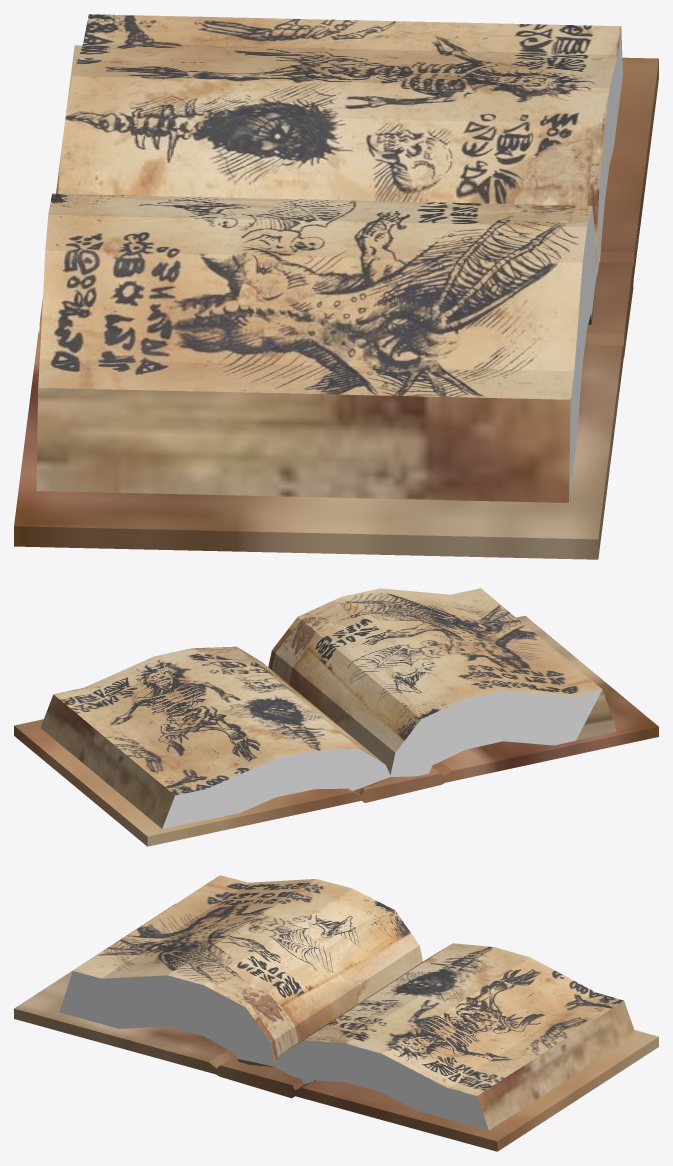
File: Openbook_uv.glb
3 views of the same model, one above another, from view 1: azimuth 30°, elevation 25°; view 2: azimuth 150°, elevation 25°; view 3: azimuth 270°, elevation 25° (orthographic). The views are drawn at different scales.
Bounding box in the file's own units: 2.36 × 0.3708 × 2.7.
Materials: 1 (1 with a texture image).
